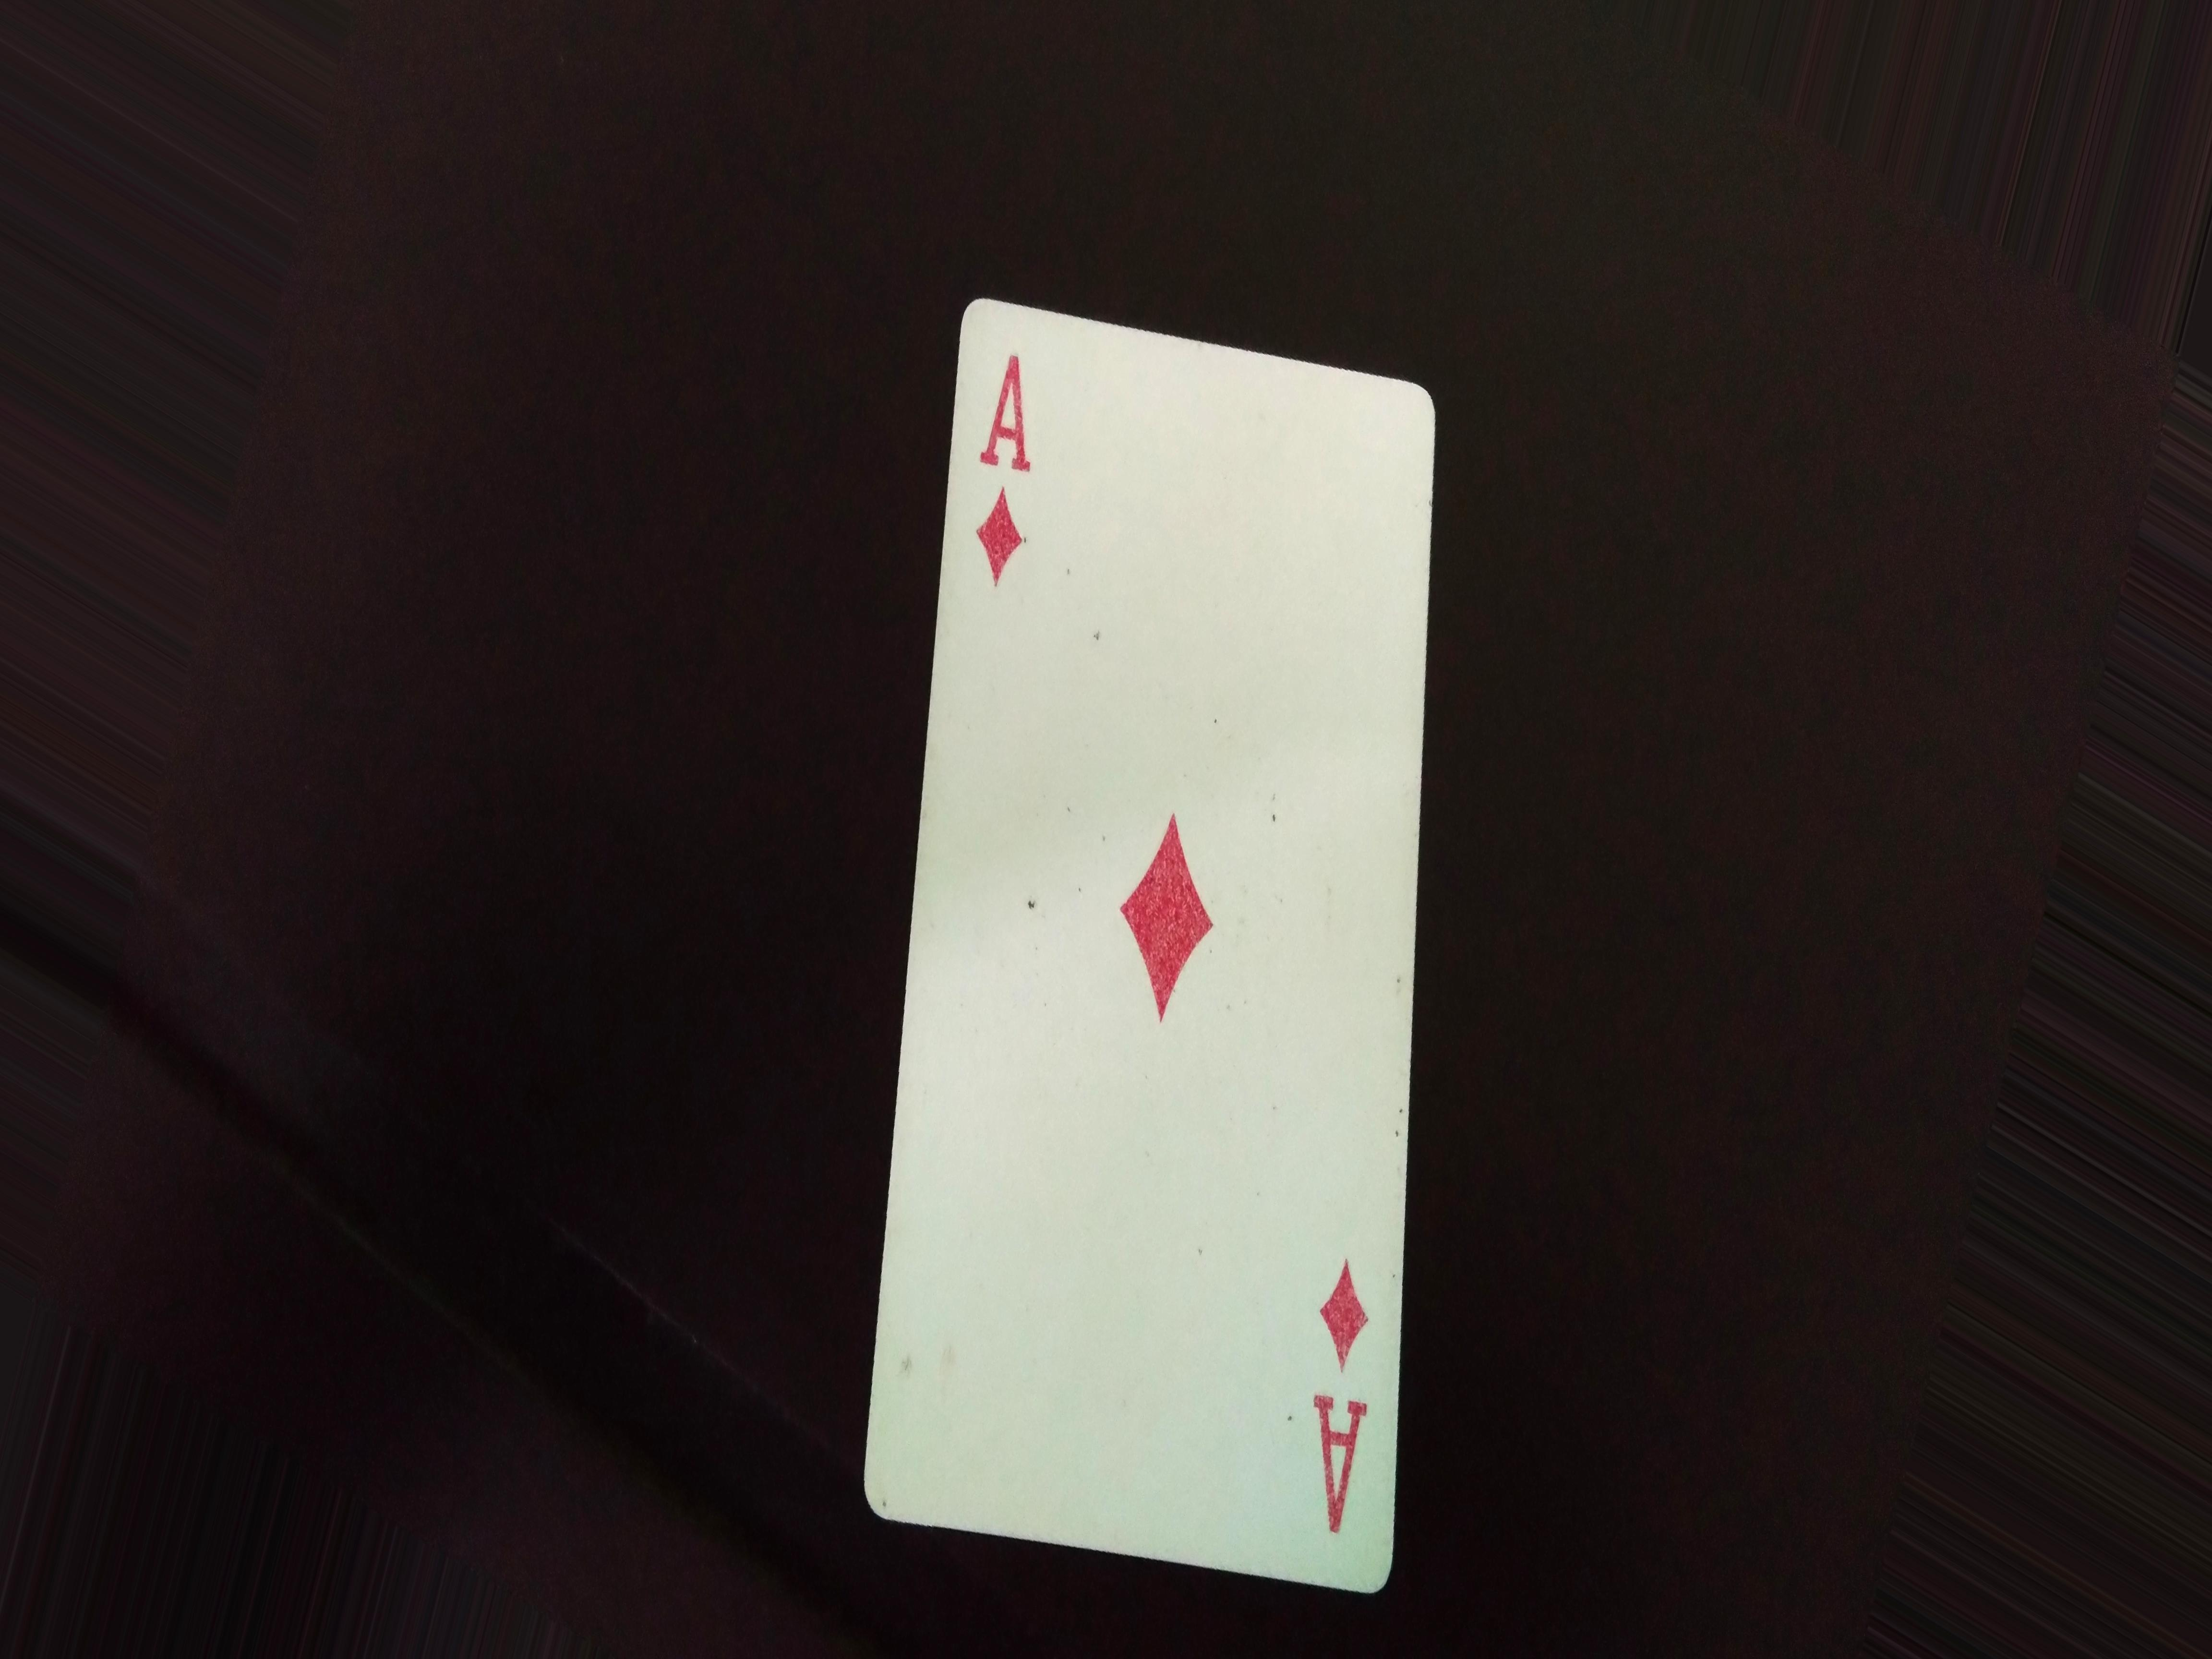AD: (979, 333, 1045, 610)
